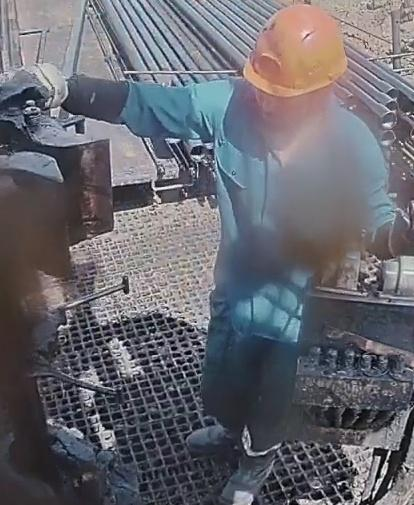gloves: (0, 63, 66, 109), (376, 195, 414, 264)
helmet: (242, 3, 347, 97)
vest: (204, 81, 383, 346)
